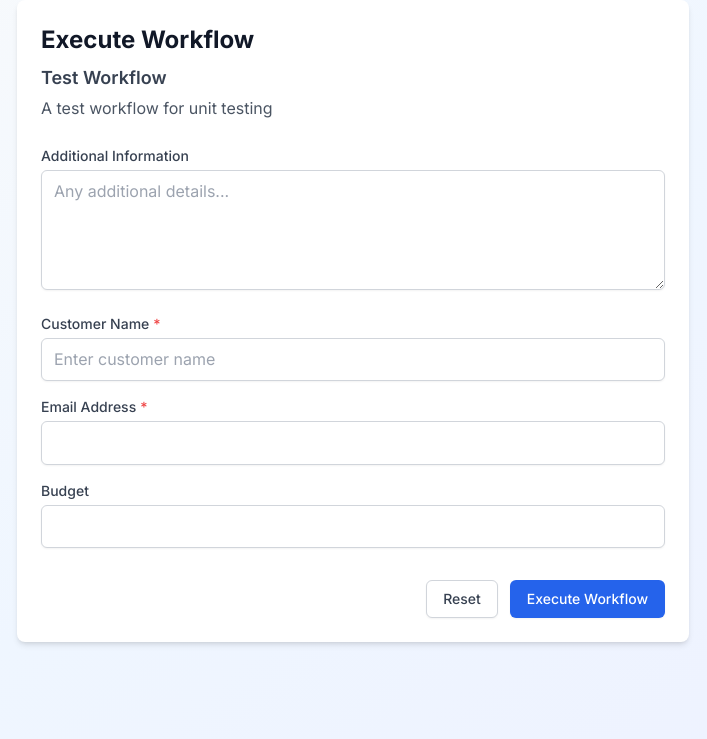
Test: WorkflowExecutionForm › validates email format
Type "John Doe" into the field labelled "Customer Name*" at [353, 359], box [41,338,665,381]
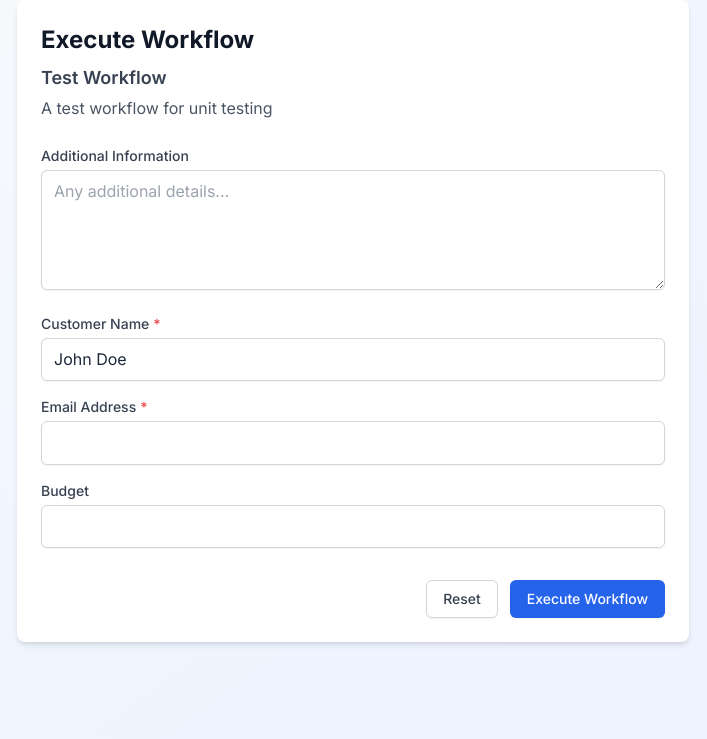
Type "invalid-email" into the field labelled "Email Address*" at [353, 443], box [41,421,665,465]
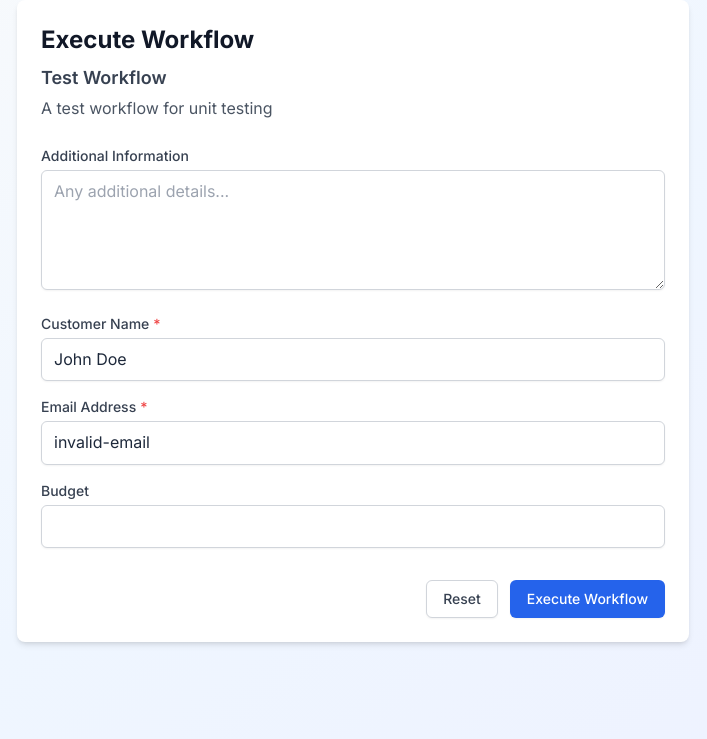
Submit the form, box [41,146,665,618]
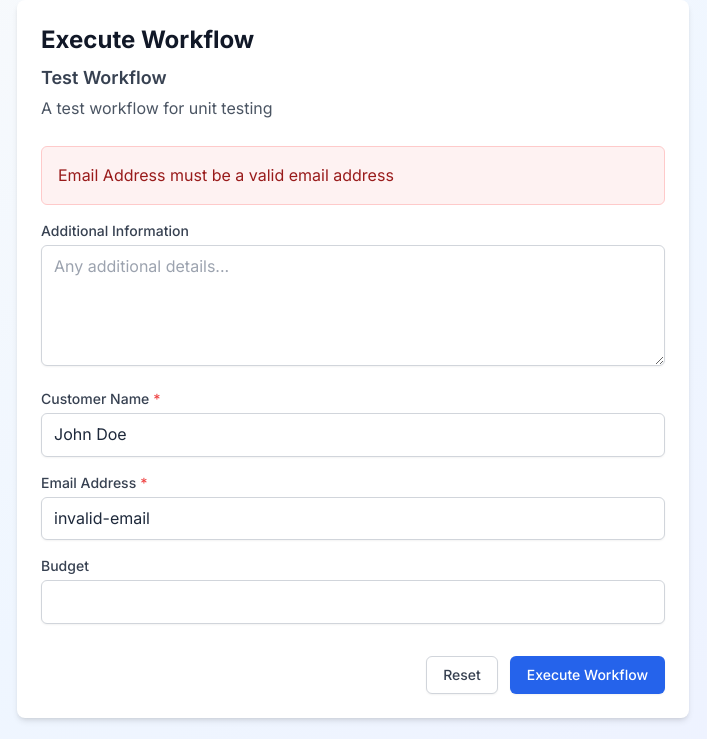
Expected: the text "Email Address must be a valid email address" is shown, [58,165,394,185]
